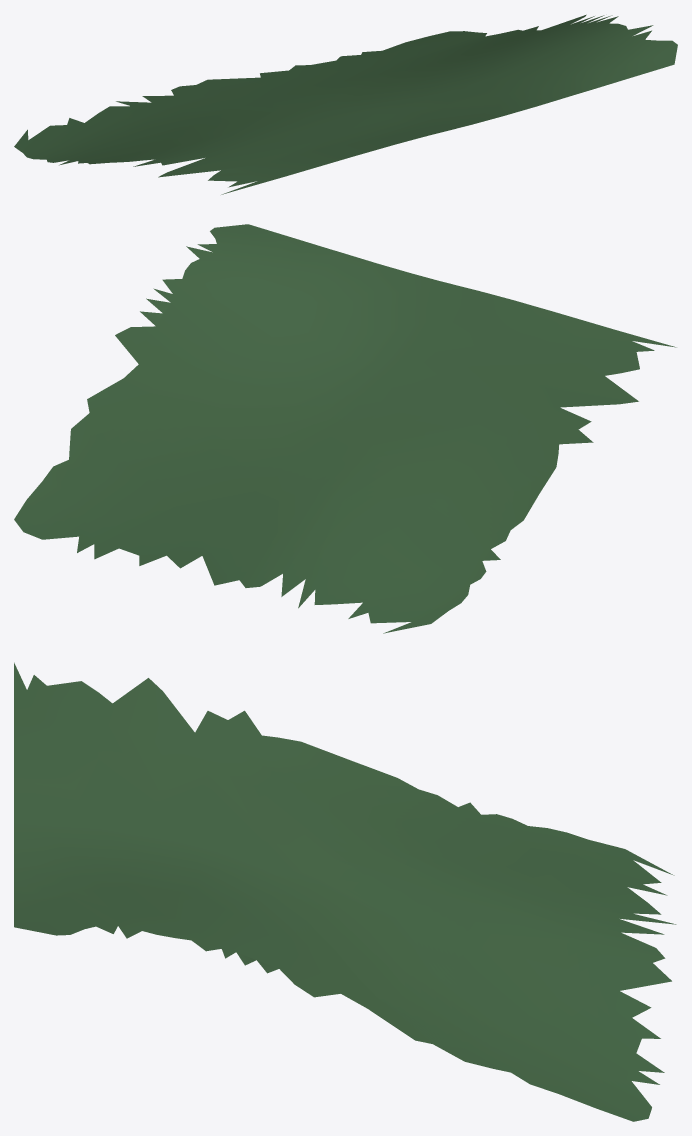
Rendered from payo_land_x2_y10_lod1.glb.
3 views of the same model, one above another, from view 1: azimuth 30°, elevation 25°; view 2: azimuth 150°, elevation 25°; view 3: azimuth 270°, elevation 25° (orthographic). The views are drawn at different scales.
Parts seen in each view (by area): view 1: payo_land_x2_y10; view 2: payo_land_x2_y10; view 3: payo_land_x2_y10.
Part boxes in pixels (left/top/right/bottom): payo_land_x2_y10: left=14, top=14, right=677, bottom=194; payo_land_x2_y10: left=14, top=224, right=676, bottom=633; payo_land_x2_y10: left=14, top=662, right=676, bottom=1121.
Size of the model in its own units: 285 by 86.61 by 254.
